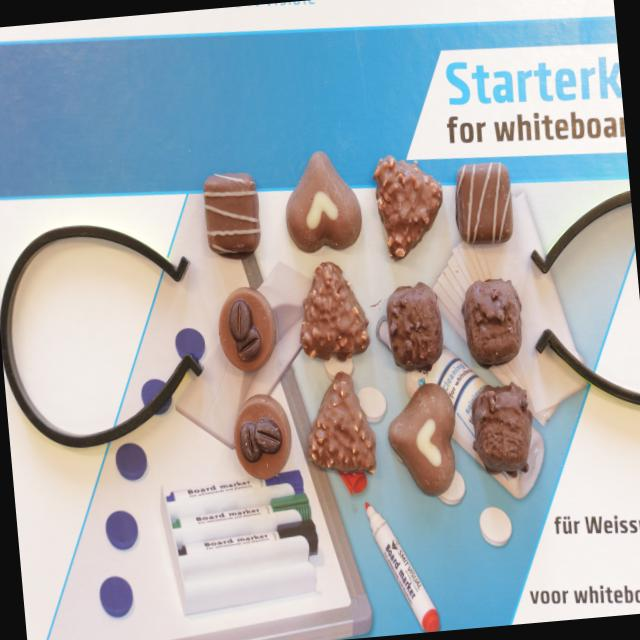Arabia: (230, 391, 294, 483), (214, 286, 278, 372)
Passion_au_lait: (279, 146, 363, 254), (384, 382, 461, 499)
Stracciatella: (200, 170, 264, 260), (452, 158, 514, 247)
Tentation_noir: (468, 383, 536, 480), (461, 277, 524, 370), (384, 282, 444, 374)
Triangolo: (298, 372, 377, 478), (293, 258, 371, 364), (372, 150, 446, 260)
